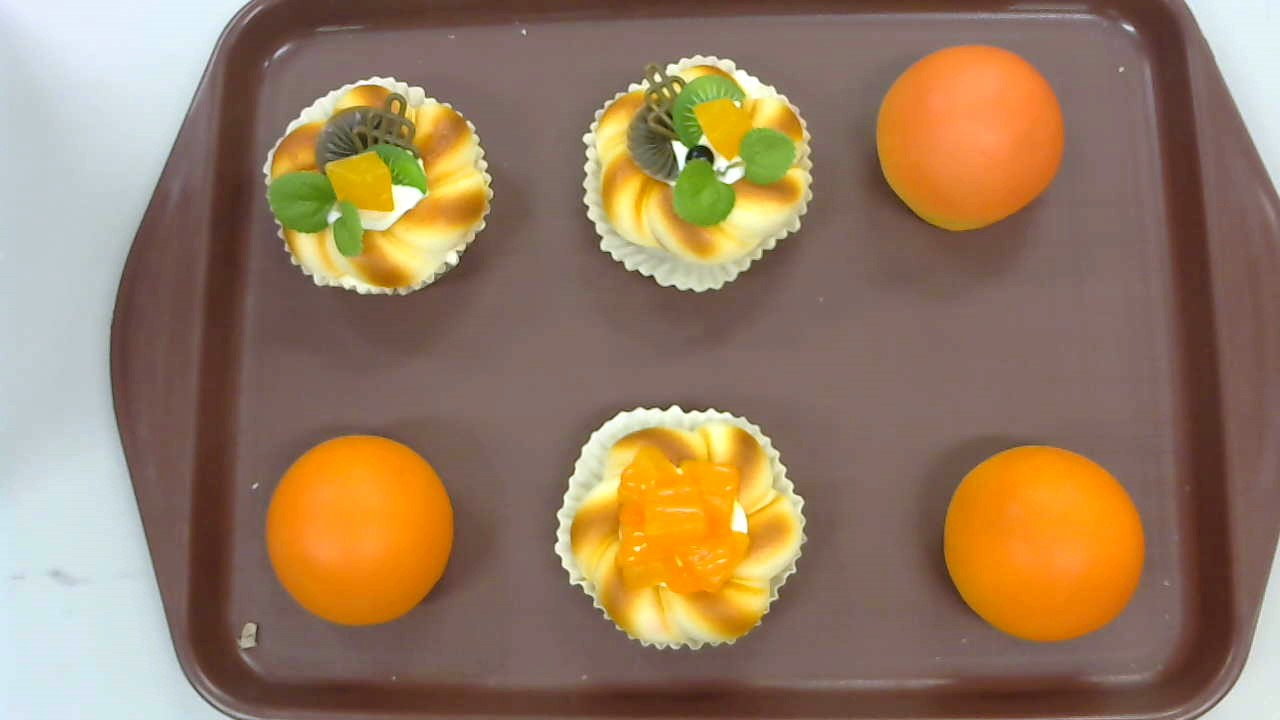bun: (944, 443, 1145, 643), (265, 435, 452, 627), (875, 43, 1065, 230)
fruit tart: (583, 53, 815, 295), (262, 76, 494, 297)
mango tart: (554, 404, 807, 652)
